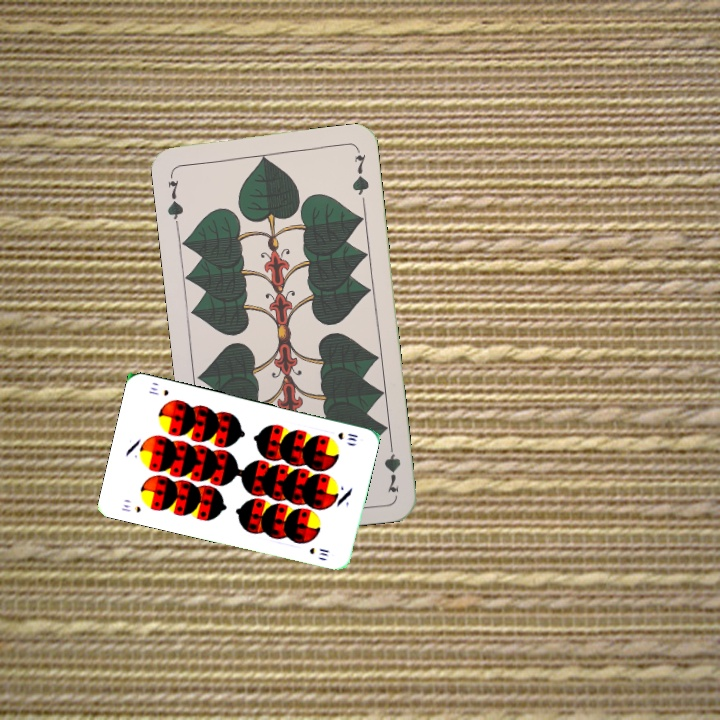G7: (380, 436, 404, 495), (163, 169, 186, 228)
S10: (334, 428, 361, 444), (118, 500, 143, 515)
